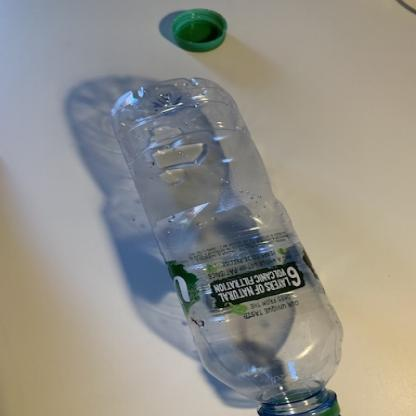trash: (110, 75, 353, 416)
